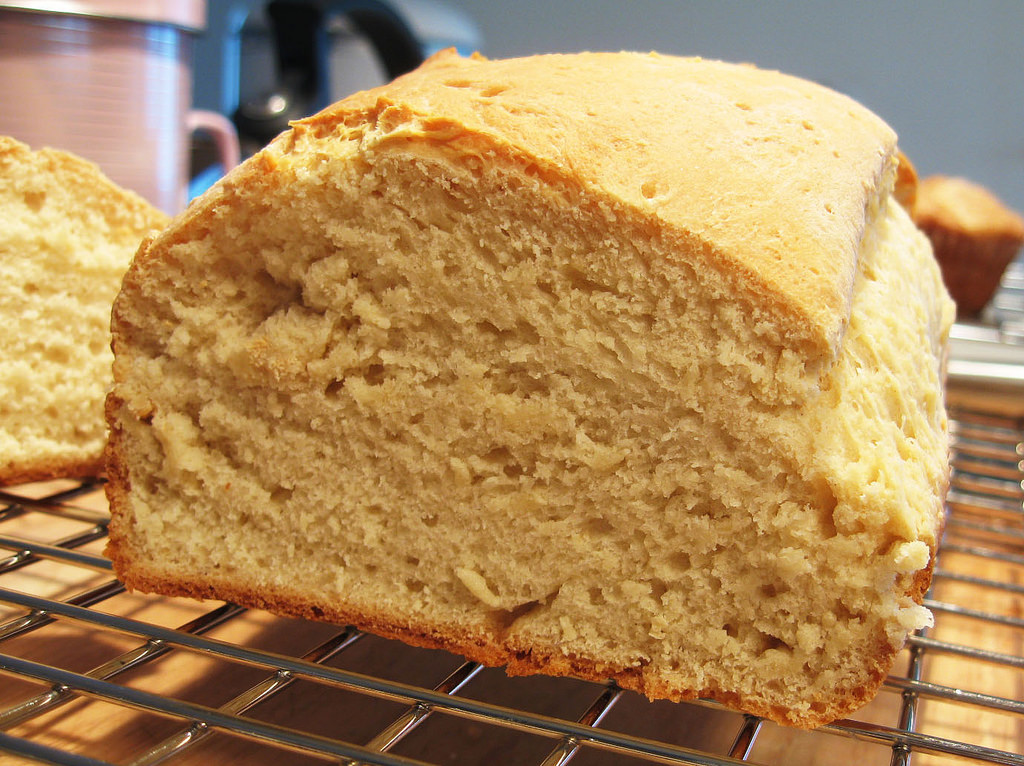slice of bread: (124, 144, 960, 670)
